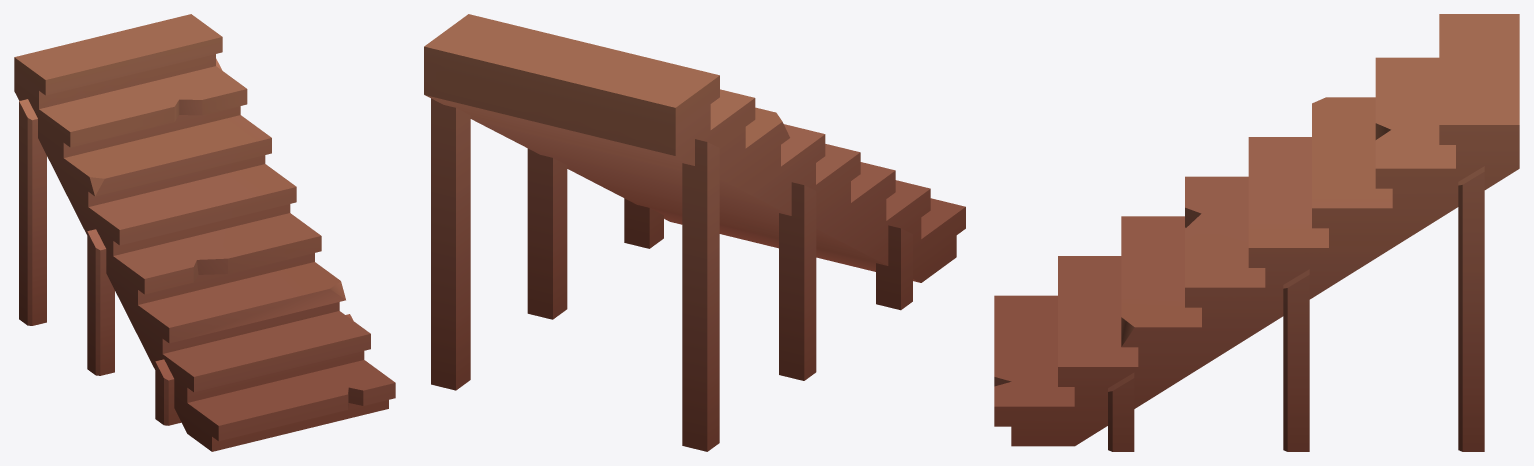
Rendered from d_kaykit_escalier_bois.glb.
3 renders of one model, left to right at view 1: azimuth 30°, elevation 25°; view 2: azimuth 150°, elevation 25°; view 3: azimuth 270°, elevation 25°, orthographic. The views are drawn at different scales.
Visible parts, largest first — view 1: d_kaykit_escalier_bois; view 2: d_kaykit_escalier_bois; view 3: d_kaykit_escalier_bois.
Boxes of the visible parts, x1,y1,x2,y2 form: d_kaykit_escalier_bois: (14,14,395,451); d_kaykit_escalier_bois: (424,14,965,451); d_kaykit_escalier_bois: (994,14,1519,451).
Size of the model in its own units: 3.3 by 4.05 by 6.
Materials: 1 (1 with a texture image).
